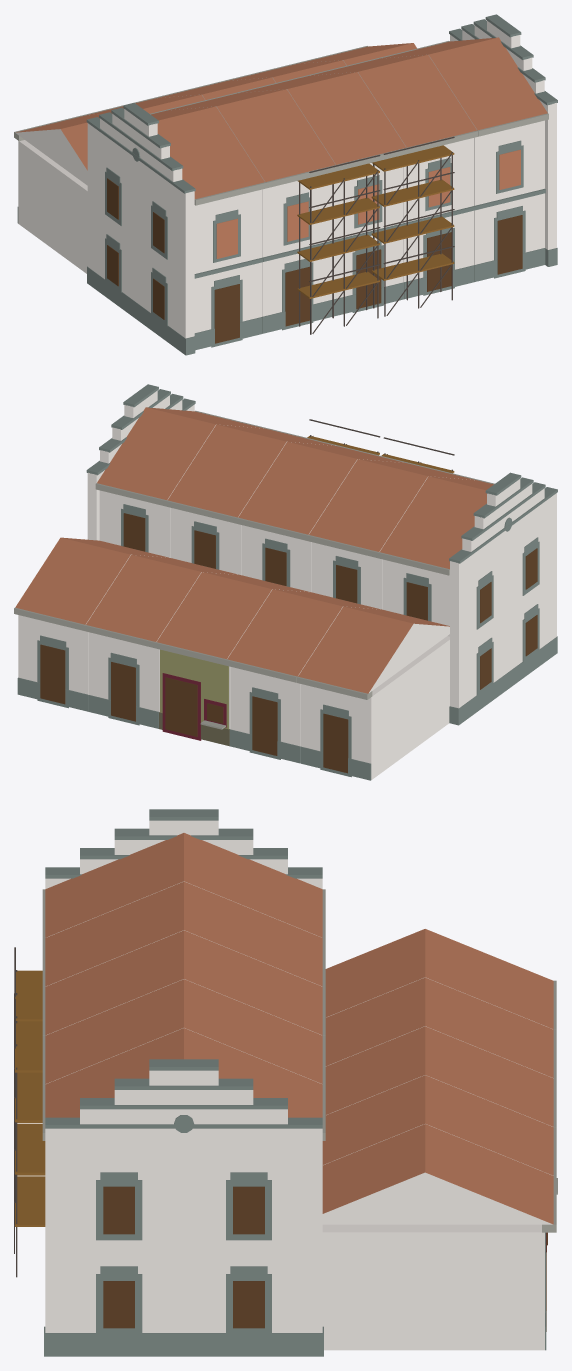
Rendered from SM_EdificioViajerosNules_v4_Liberada_LOD0.fbx.
3 renders of one model, top to bottom at view 1: azimuth 30°, elevation 25°; view 2: azimuth 150°, elevation 25°; view 3: azimuth 270°, elevation 25°, orthographic. The views are drawn at different scales.
Visible parts, largest first — view 1: SM_edificio_viajeros_nules_v4_LOD0; view 2: SM_edificio_viajeros_nules_v4_LOD0; view 3: SM_edificio_viajeros_nules_v4_LOD0.
Boxes of the visible parts, x1,y1,x2,y2 form: SM_edificio_viajeros_nules_v4_LOD0: (14,14,557,355); SM_edificio_viajeros_nules_v4_LOD0: (14,384,557,780); SM_edificio_viajeros_nules_v4_LOD0: (14,809,557,1356).
Size of the model in its own units: 21.12 by 11.17 by 18.84.
